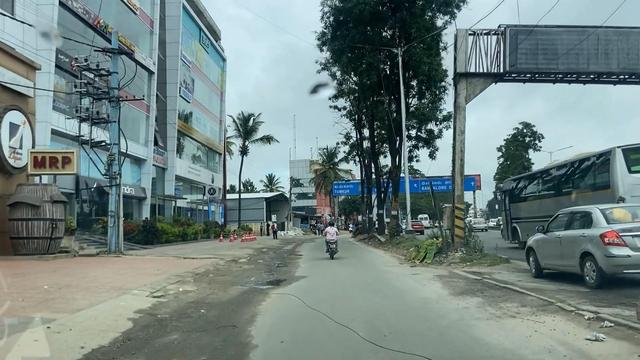RoadDamages: (457, 281, 537, 332), (249, 251, 298, 292)
